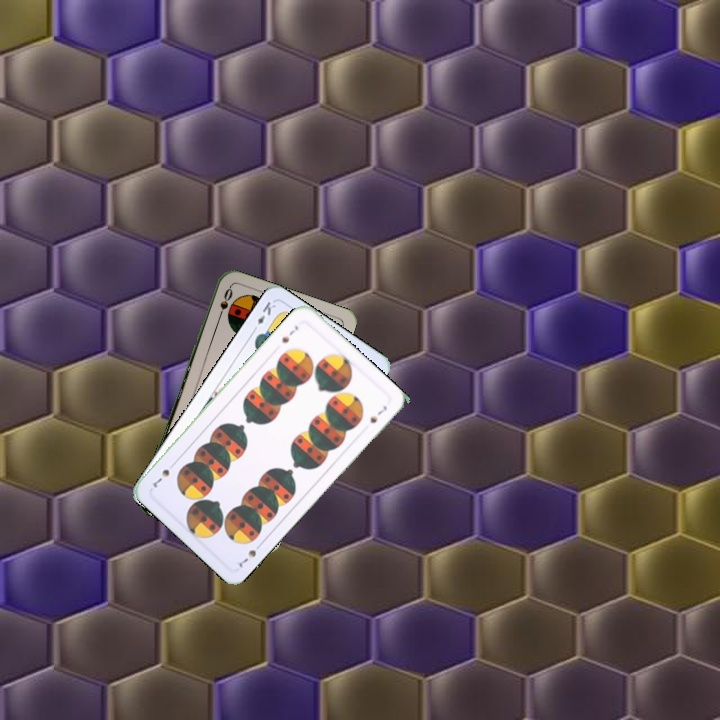EK: (248, 297, 278, 335)
S7: (235, 538, 265, 570), (278, 321, 301, 345)
SO: (214, 283, 235, 323)
